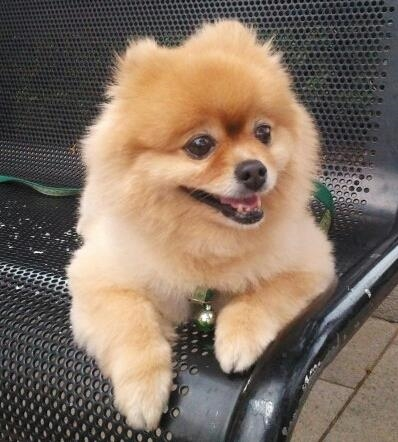pomeranian: (64, 16, 360, 407)
